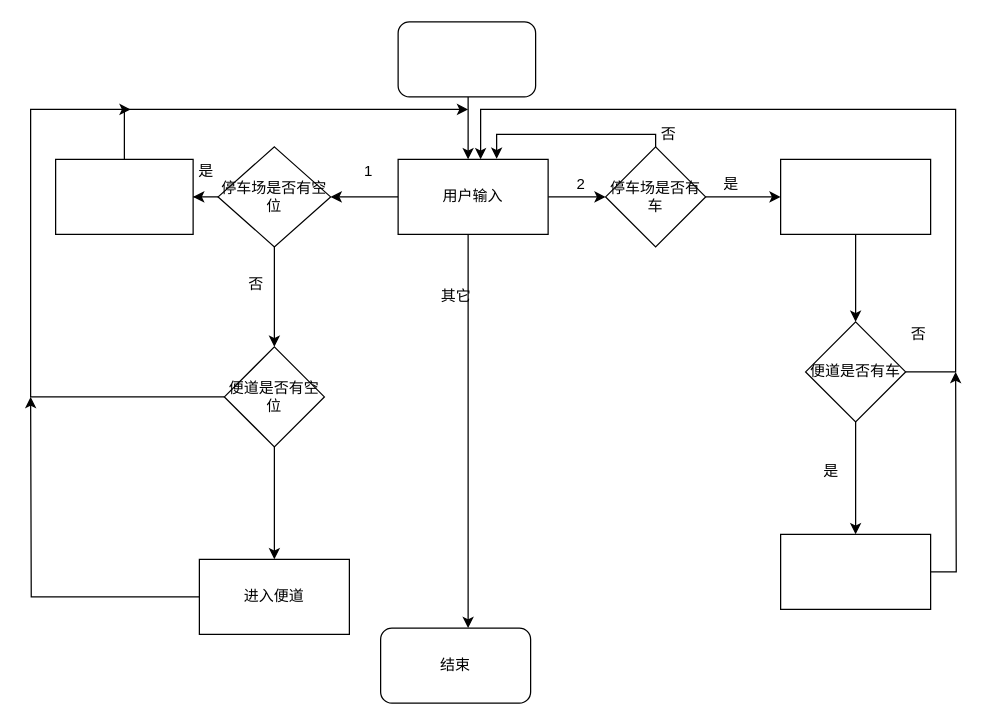
Some shapes in this 989 by 725 pixel diagram are drawn without their labels. The shapes that lost their labels are listed below. From the top down, each one's centre as x and y in pixels, then its label:
At (466,59): "开始".
At (123,196): "进入停车场".
At (855,196): "最后一辆车离开停车场".
At (855,571): "第一辆车进入停车场".
